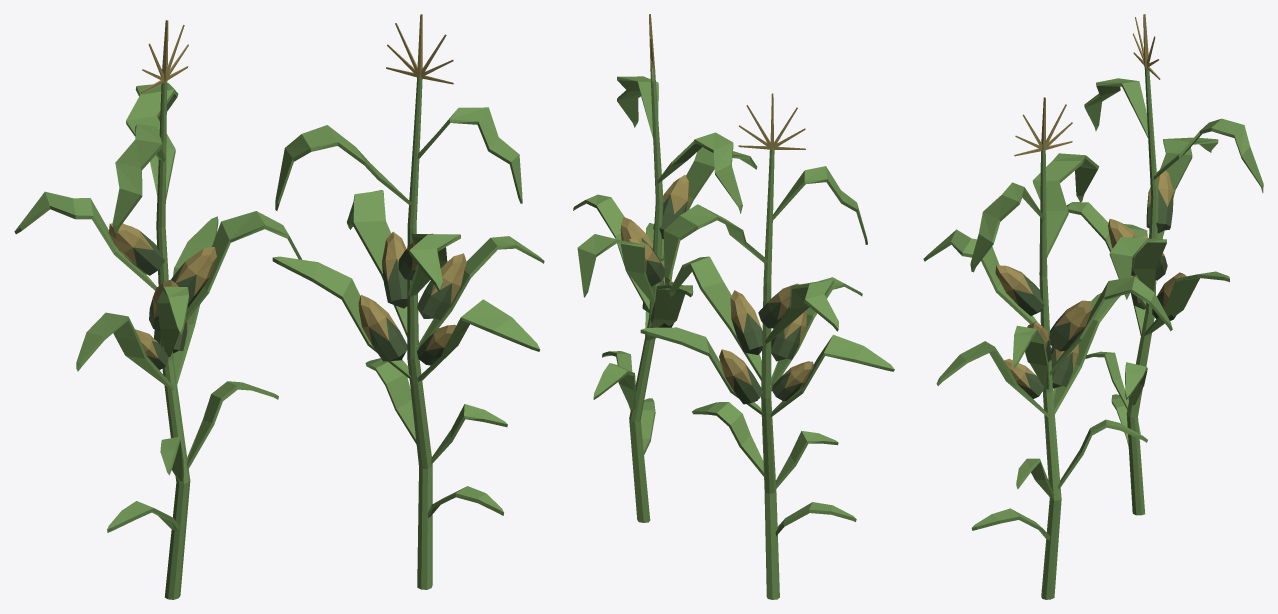
Rendered from crop_corn.s4.glb.
3 renders of one model, left to right at view 1: azimuth 30°, elevation 25°; view 2: azimuth 150°, elevation 25°; view 3: azimuth 270°, elevation 25°, orthographic. The views are drawn at different scales.
Bounding box in the file's own units: 0.7584 × 1 × 0.6198.
